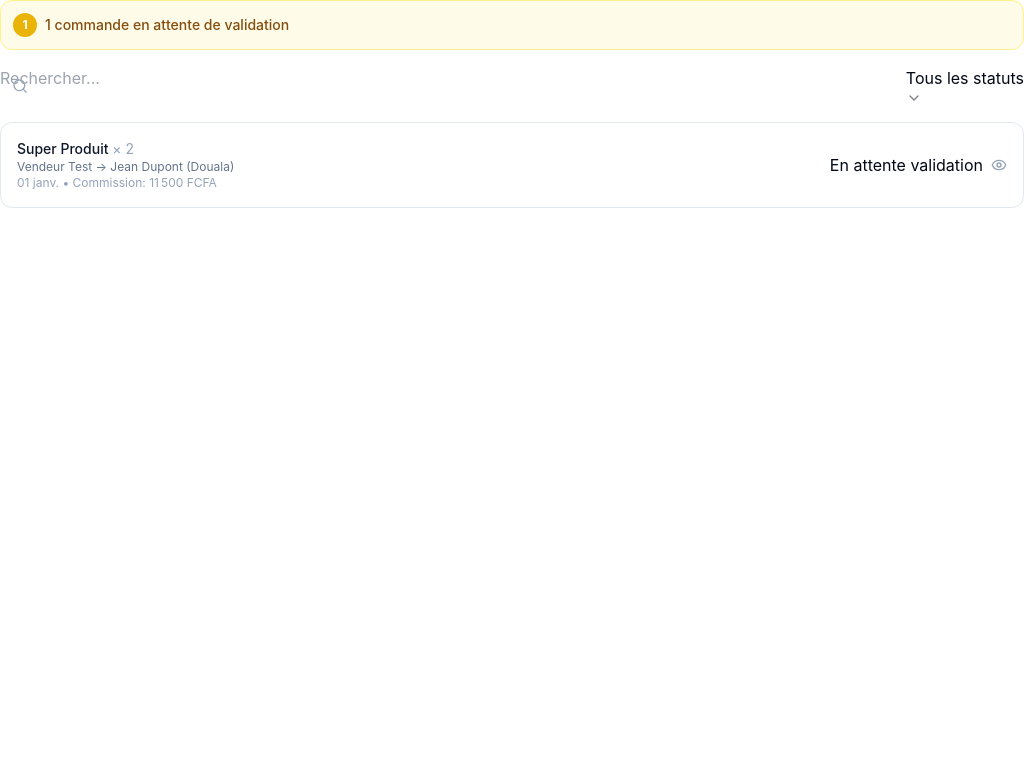
Test case: CommandesVendeurs — édition livraison par l'admin › recalcule la commission affichée selon livraison_incluse + frais_livraison au rechargement
Later steps or results of the test are not shown.
Click the text "Super Produit × 2" at (75, 148), box [17,140,134,157]
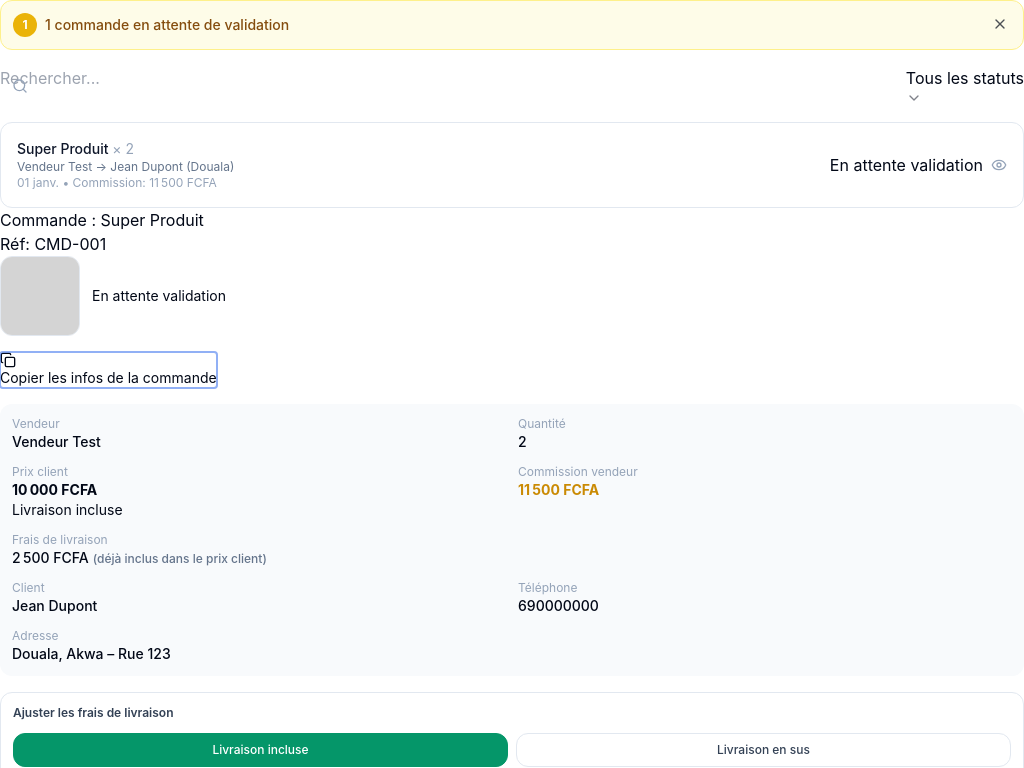
Now the text "Commission vendeur" is shown, box [518,464,638,479]
